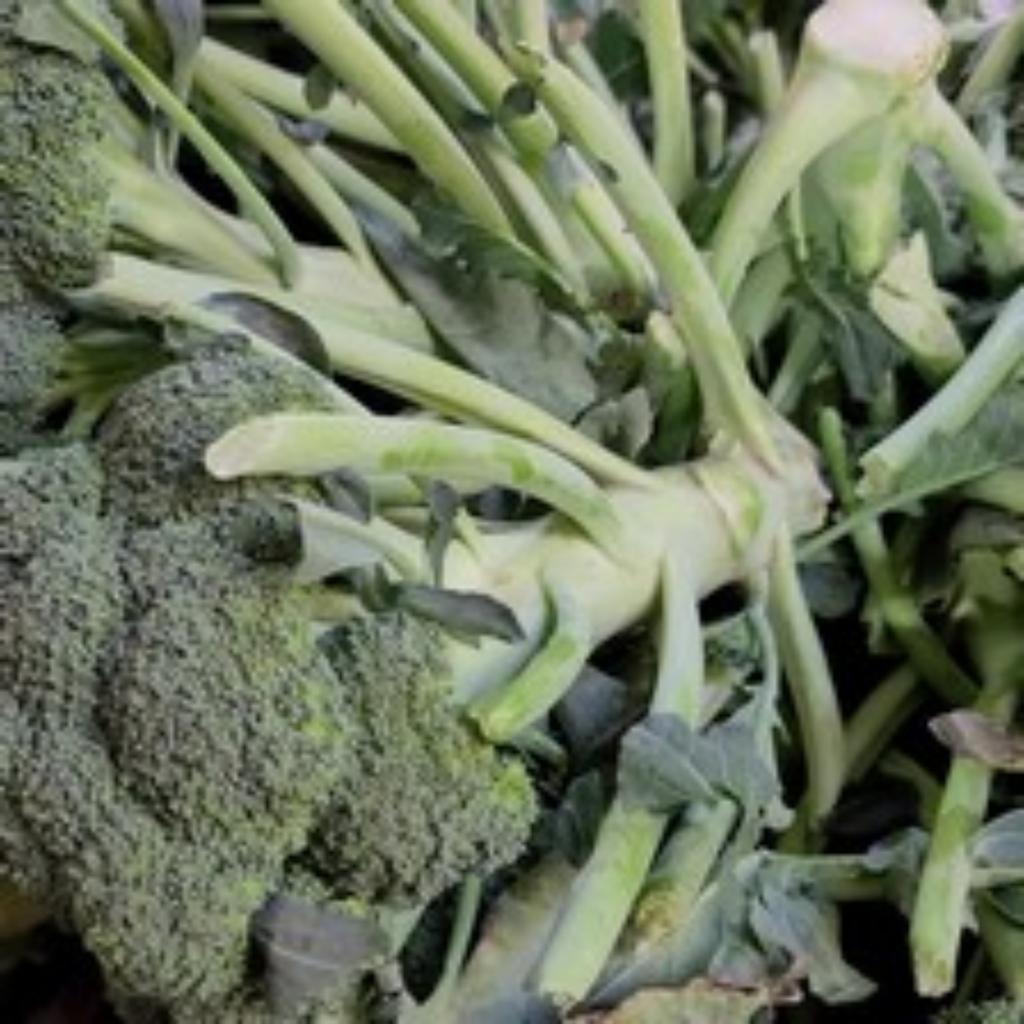Broccoli: (0, 350, 536, 1023), (0, 348, 534, 1023)
